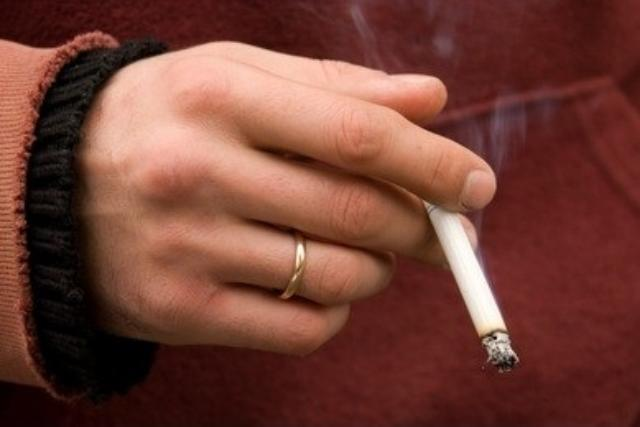Smoking: (414, 184, 528, 378)
